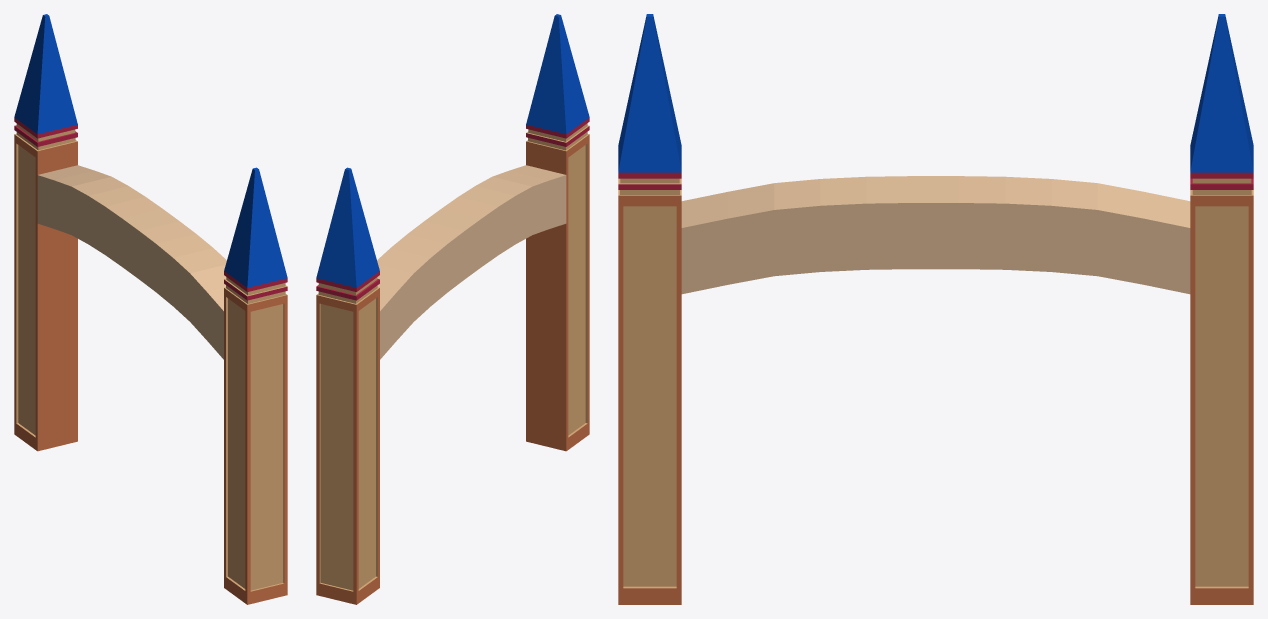
Rendered from Gate.fbx.
The picture shows the model from 3 angles, left to right: view 1: azimuth 30°, elevation 25°; view 2: azimuth 150°, elevation 25°; view 3: azimuth 270°, elevation 25°; orthographic projection. The views are drawn at different scales.
Visible parts, largest first — view 1: Gate; view 2: Gate; view 3: Gate.
Part boxes in pixels (bbox=[...]): Gate: bbox=[14, 14, 287, 604]; Gate: bbox=[316, 14, 589, 604]; Gate: bbox=[618, 14, 1253, 604].
Bounding box in the file's own units: 100 × 1000 × 1000.
